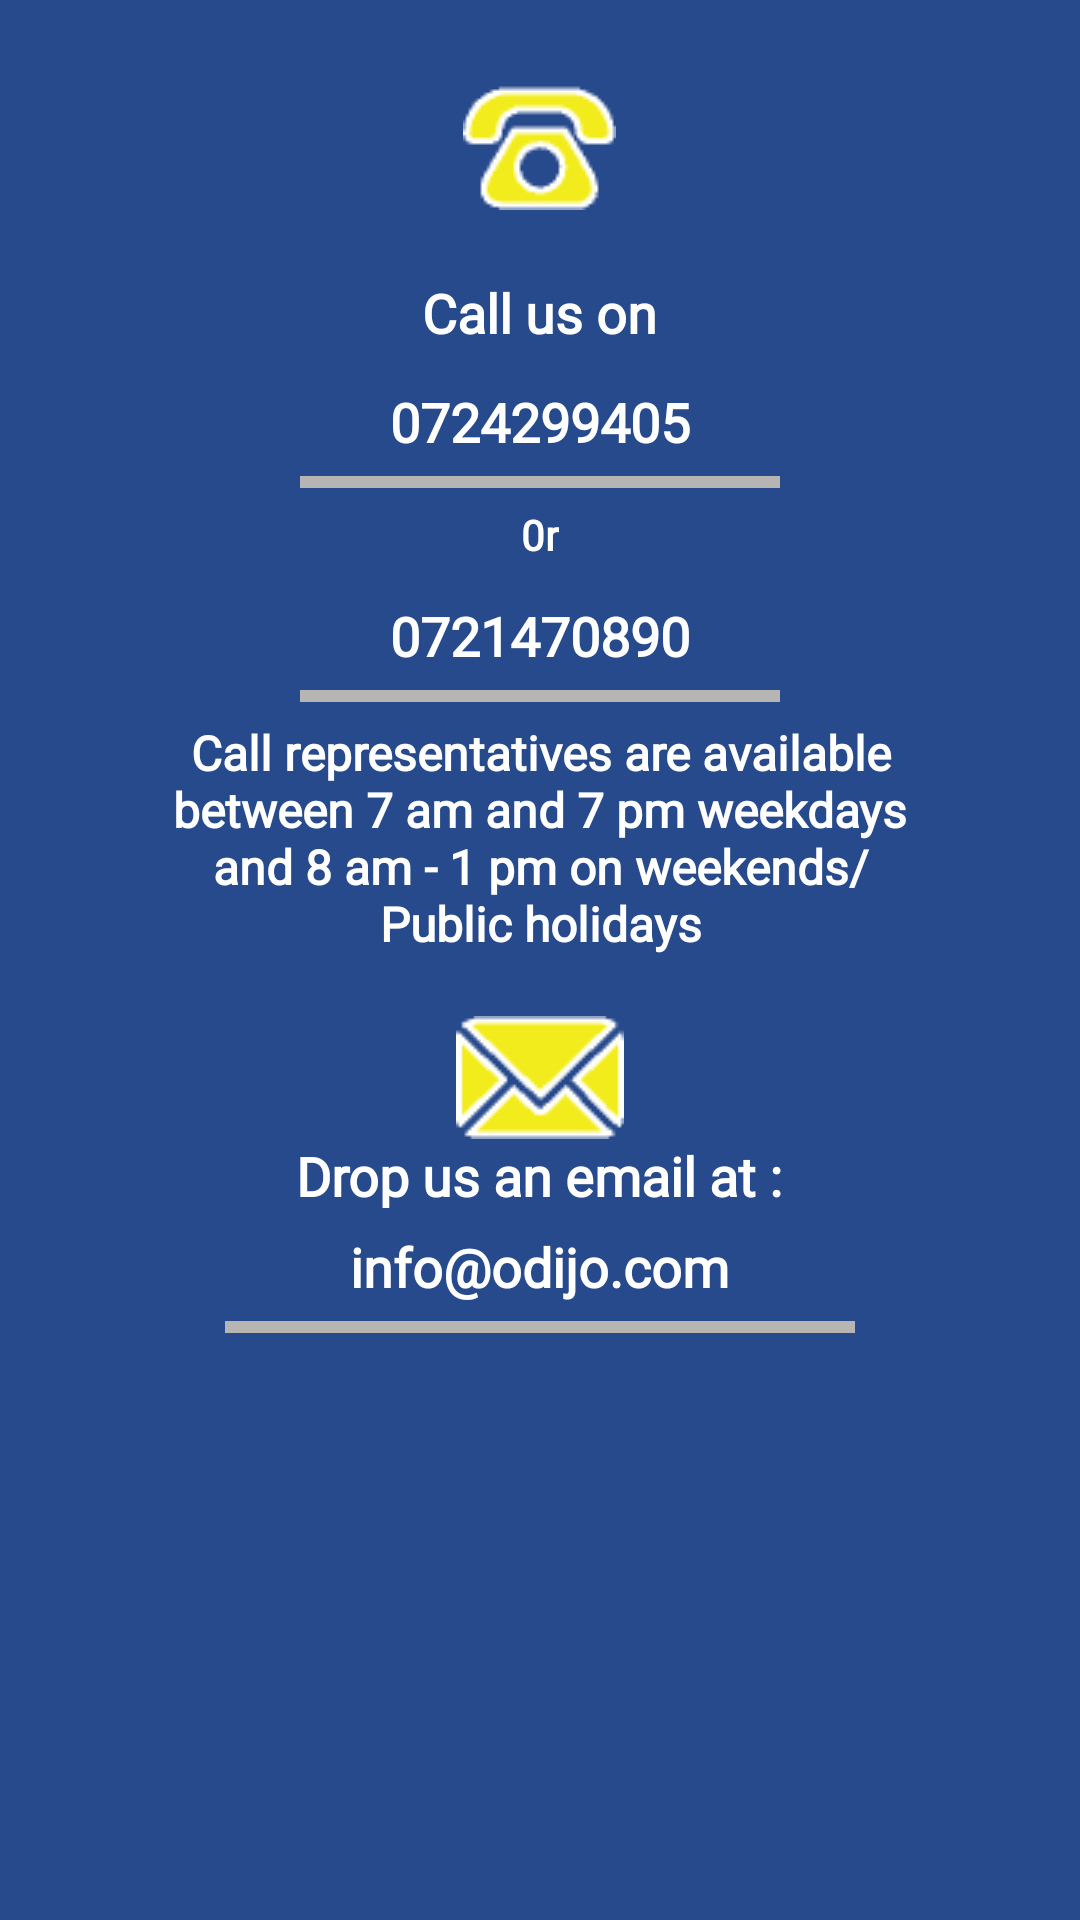

Where to tap for icons on this 1080px x 1920px app screen, as [x,y]:
phone: [539,148]
